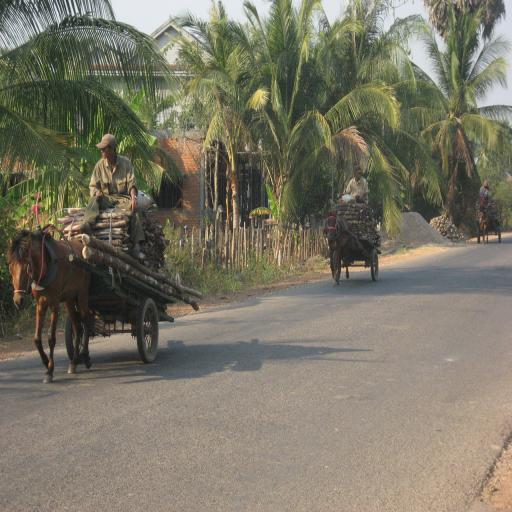Horse: (6, 228, 91, 382), (324, 209, 350, 288), (477, 207, 493, 245)
